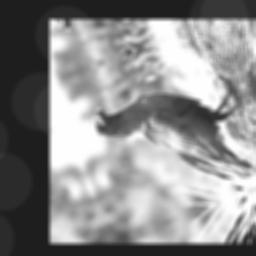Crow: (85, 55, 256, 223)
